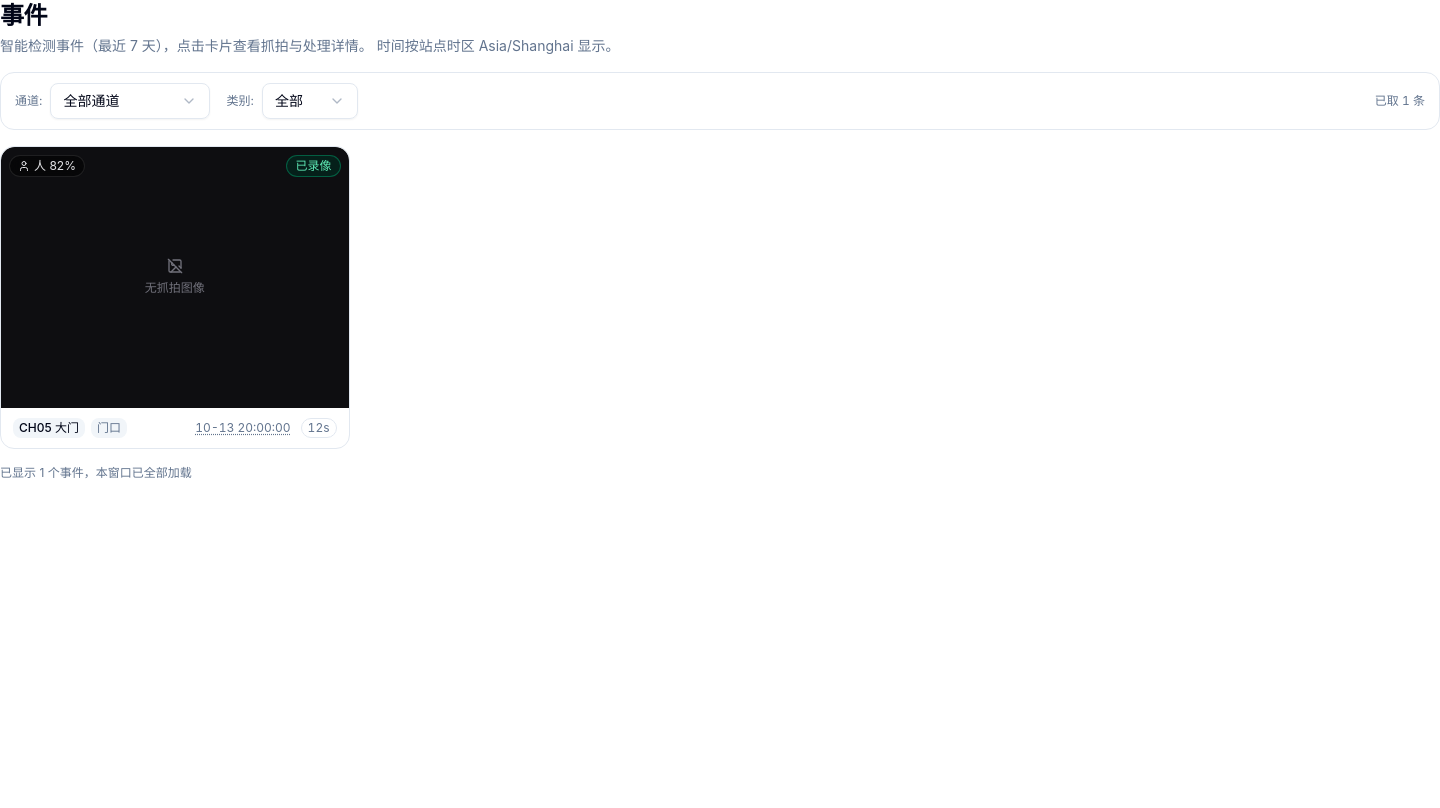
Test: a hit already marked as a false positive can be cleared
The width and height of the screenshot is (1440, 808).
Click the button with test id "event-card" at (175,297), box [0,146,350,449]
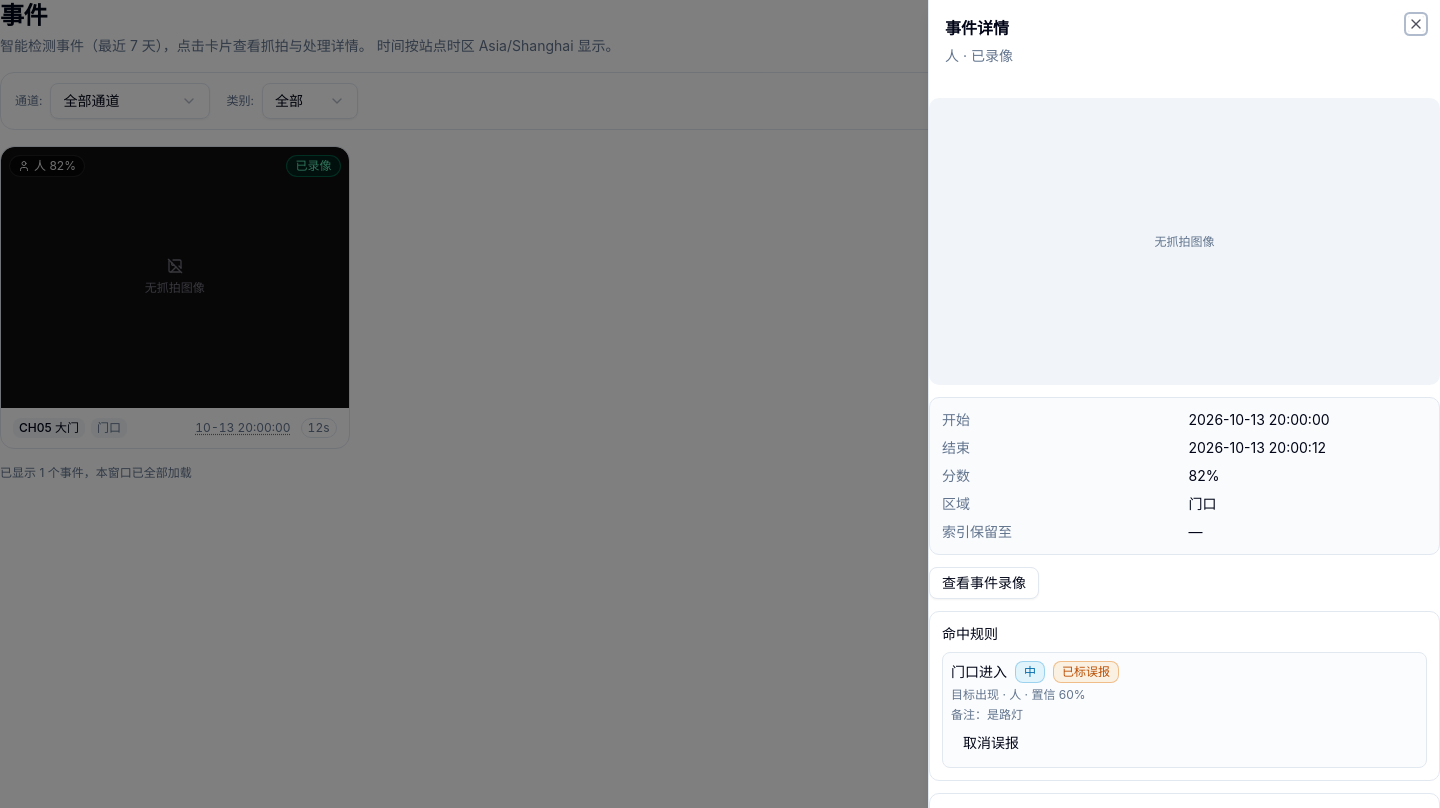
Expected: the element with test id "event-hit" shows "已标误报", [1062,664,1110,679]
Expected: the element with test id "event-hit" shows "备注：是路灯", [942,652,1427,768]
Expected: the button with aria-label "标记规则命中非误报 门口进入" is shown, [951,727,1031,759]
